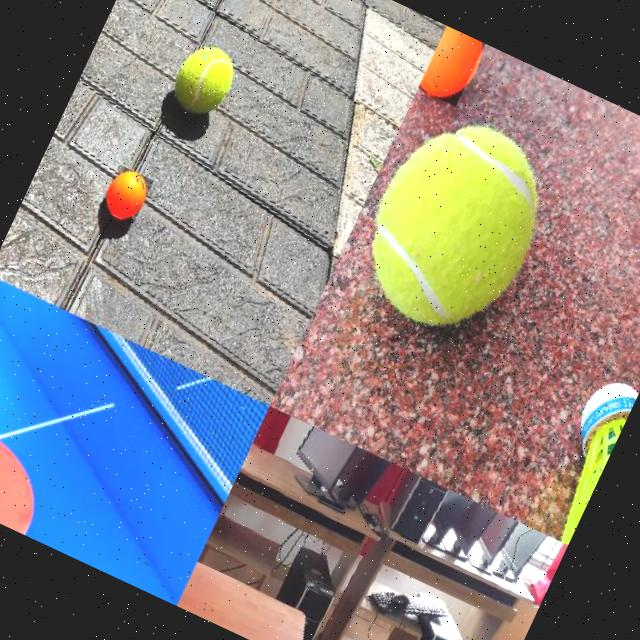ping-pong-ball: (417, 26, 487, 110), (99, 164, 154, 226)
